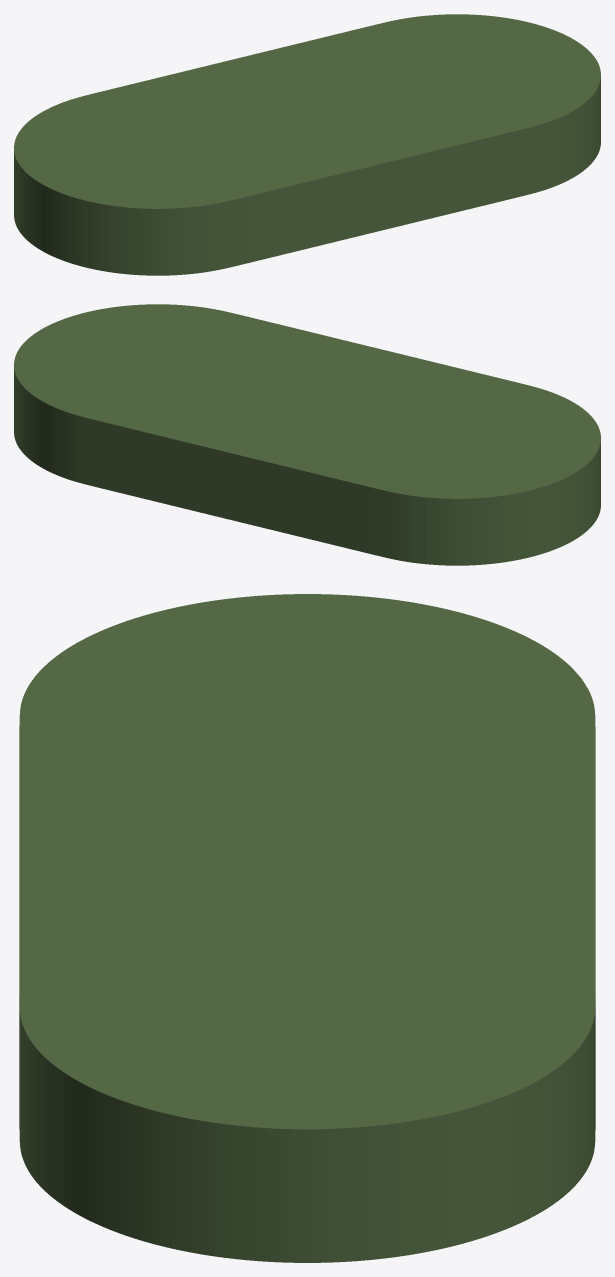
Rendered from map_in.fbx.
3 renders of one model, top to bottom at view 1: azimuth 30°, elevation 25°; view 2: azimuth 150°, elevation 25°; view 3: azimuth 270°, elevation 25°, orthographic. The views are drawn at different scales.
Parts seen in each view (by area): view 1: Map_in; view 2: Map_in; view 3: Map_in.
Boxes of the visible parts, x1,y1,x2,y2 form: Map_in: (14,14,600,275); Map_in: (14,304,600,565); Map_in: (19,594,595,1262).
Bounding box in the file's own units: 54962 × 6398 × 25000.
